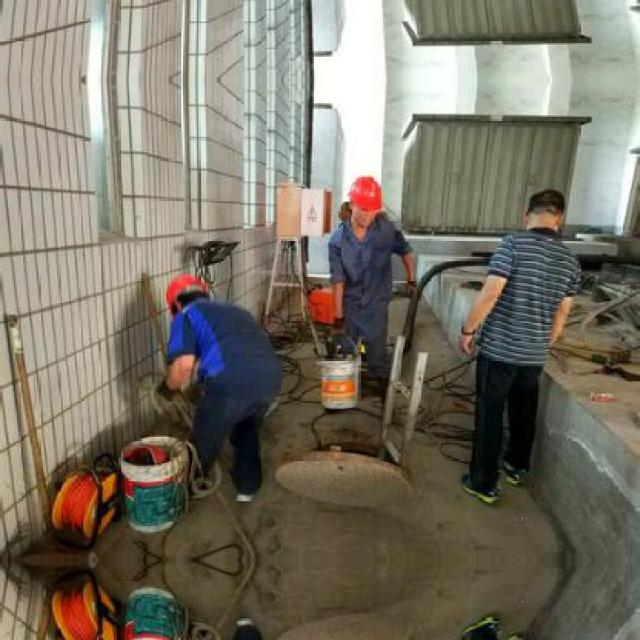helmet: (344, 173, 382, 230), (160, 275, 212, 316)
